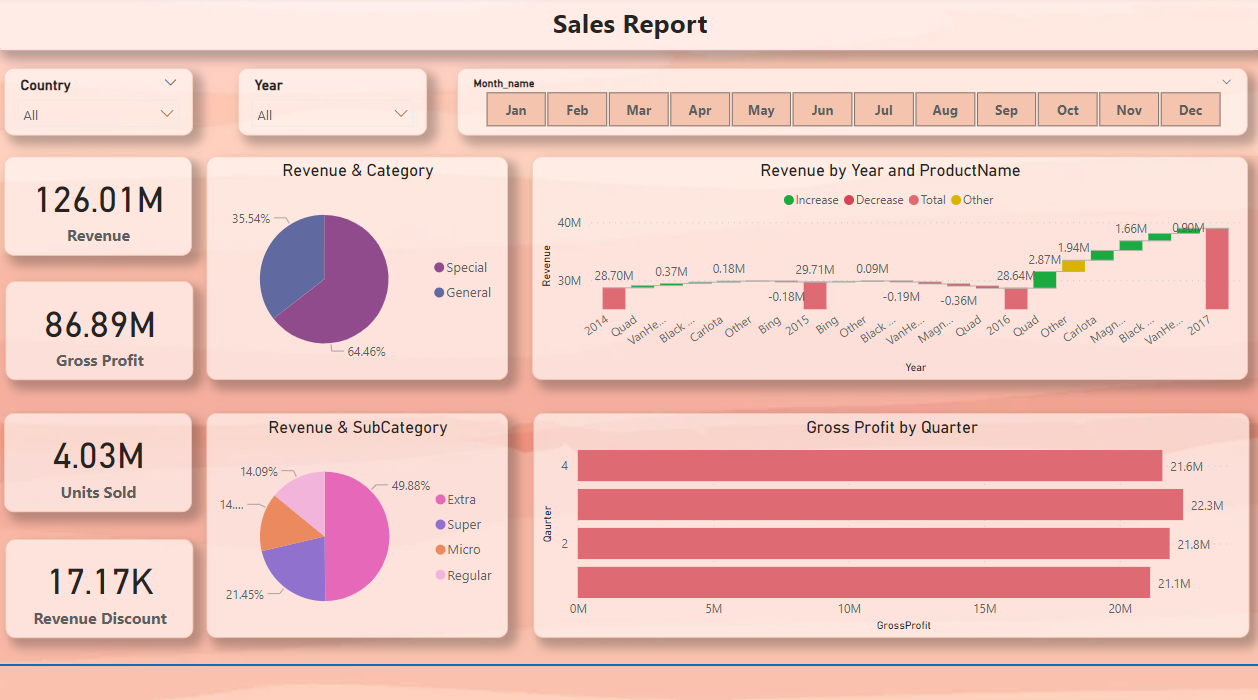

The dashboard page shown, as its layout file describes it:
{"tool":"powerbi","page":{"name":"Page 1","canvas":[1280,720],"ordinal":0},"visuals":[{"type":"textbox","box":[0,0,1280,54.7],"z":0},{"type":"slicer","fields":{"Values":["Geography.Country"]},"box":[9.1,72.6,190.6,68.1],"z":1000},{"type":"slicer","fields":{"Values":["DIM_Date.Year"]},"box":[245.1,72.6,190.6,68.1],"z":2000},{"type":"slicer","fields":{"Values":["DIM_Date.Month_name"]},"box":[466,72.6,797.4,68.1],"z":3000},{"type":"card","fields":{"Values":["Sum(sales.Revenue)"]},"box":[9.1,161.9,189,100],"z":4000},{"type":"card","fields":{"Values":["Sum(sales.GrossProfit)"]},"box":[10.6,287.5,189.1,100],"z":5000},{"type":"card","fields":{"Values":["Sum(sales.Units)"]},"box":[9.1,420.6,189.1,99.9],"z":6000},{"type":"card","fields":{"Values":["Sum(sales.RevenueDiscount)"]},"box":[10.6,547.7,189.1,99.9],"z":7000},{"type":"pieChart","title":"Revenue & SubCategory","fields":{"Category":["Sub categories.SubCategory Name"],"Y":["Sum(sales.Revenue)"]},"box":[213.3,420.6,304.1,227],"z":9000},{"type":"pieChart","title":"Revenue & Category","fields":{"Y":["Sum(sales.Revenue)"],"Category":["Categories.Category"]},"box":[213.3,161.9,304.1,225.4],"z":10000},{"type":"waterfallChart","fields":{"Category":["DIM_Date.Year"],"Breakdown":["Product.ProductName"],"Y":["Sum(sales.Revenue)"]},"box":[541.7,161.9,721.7,225.4],"z":11000},{"type":"clusteredBarChart","title":"Gross Profit by Quarter","fields":{"Y":["Sum(sales.GrossProfit)"],"Category":["DIM_Date.Qaurter"]},"box":[543.2,420.6,721.7,227],"z":11001},{"type":"shape","box":[0,629.4,1280,90.8],"z":11002}]}

Visuals, with their boxes in screenshot pixels (x1, y1, x2, y2), scaled from the page's 1280x720 canvas onto the 1258x700 screenshot:
textbox: {"x1": 0, "y1": 0, "x2": 1257, "y2": 53}
slicer - Geography.Country: {"x1": 9, "y1": 71, "x2": 196, "y2": 137}
slicer - DIM_Date.Year: {"x1": 241, "y1": 71, "x2": 428, "y2": 137}
slicer - DIM_Date.Month_name: {"x1": 458, "y1": 71, "x2": 1242, "y2": 137}
card - Sum(sales.Revenue): {"x1": 9, "y1": 157, "x2": 195, "y2": 255}
card - Sum(sales.GrossProfit): {"x1": 10, "y1": 280, "x2": 196, "y2": 377}
card - Sum(sales.Units): {"x1": 9, "y1": 409, "x2": 195, "y2": 506}
card - Sum(sales.RevenueDiscount): {"x1": 10, "y1": 532, "x2": 196, "y2": 630}
"Revenue & SubCategory" pieChart: {"x1": 210, "y1": 409, "x2": 509, "y2": 630}
"Revenue & Category" pieChart: {"x1": 210, "y1": 157, "x2": 509, "y2": 377}
waterfallChart - DIM_Date.Year x Product.ProductName: {"x1": 532, "y1": 157, "x2": 1242, "y2": 377}
"Gross Profit by Quarter" clusteredBarChart: {"x1": 534, "y1": 409, "x2": 1243, "y2": 630}
shape: {"x1": 0, "y1": 612, "x2": 1257, "y2": 699}
